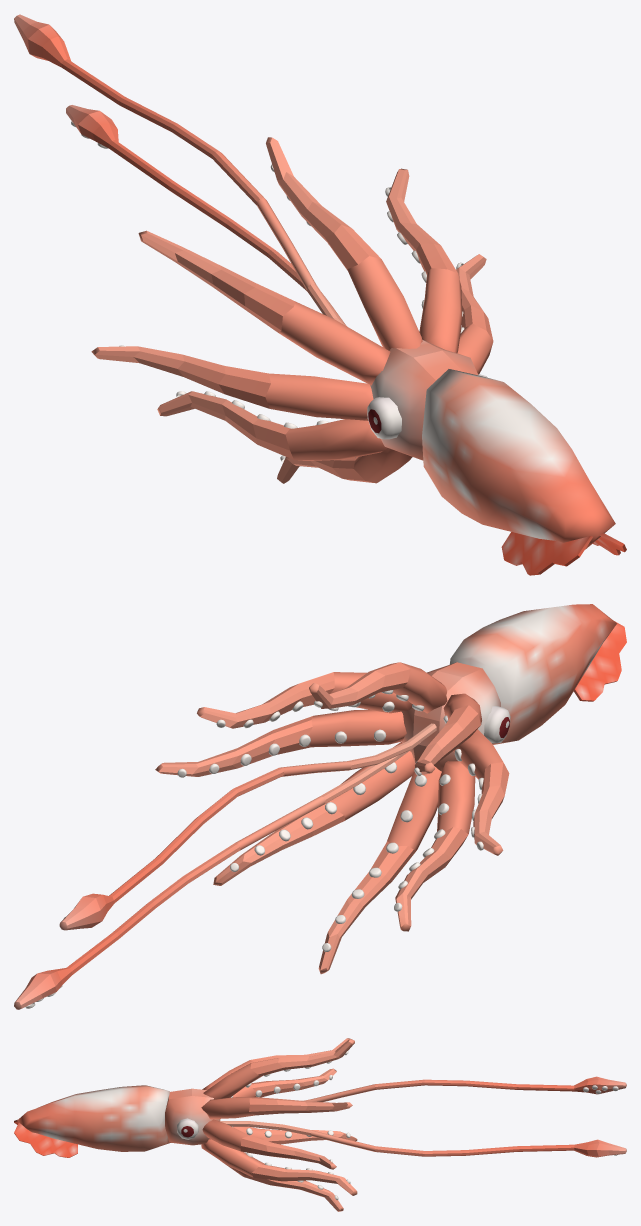
The picture shows the model from 3 angles, top to bottom: view 1: azimuth 30°, elevation 25°; view 2: azimuth 150°, elevation 25°; view 3: azimuth 270°, elevation 25°; orthographic projection. The views are drawn at different scales.
Parts seen in each view (by area): view 1: Fish_GiantSquid; view 2: Fish_GiantSquid; view 3: Fish_GiantSquid.
Part boxes in pixels (bbox=[...]): Fish_GiantSquid: bbox=[14, 14, 626, 575]; Fish_GiantSquid: bbox=[14, 604, 626, 1009]; Fish_GiantSquid: bbox=[14, 1038, 626, 1211].
Bounding box in the file's own units: 85.33 × 70.37 × 226.
